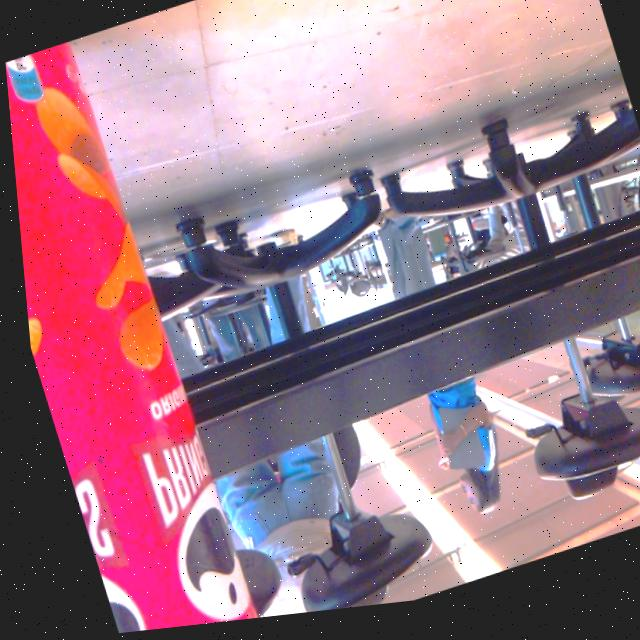redpringles: (3, 23, 263, 640)
